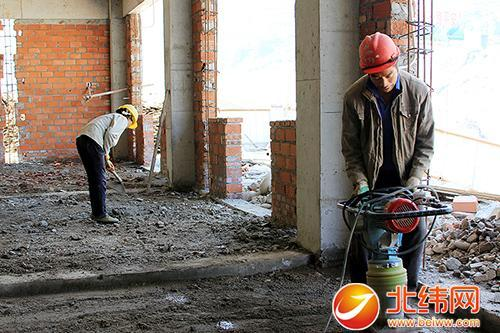boots: (92, 213, 119, 222)
hard-hat: (358, 31, 400, 73), (116, 104, 138, 129)
person: (340, 31, 435, 289), (75, 103, 139, 223)
